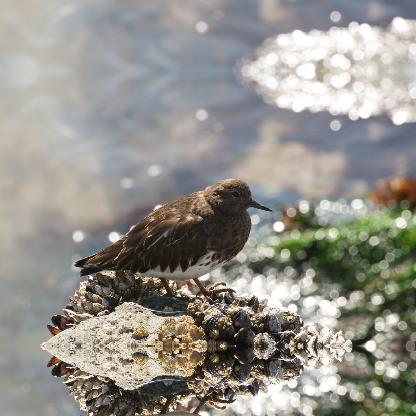Bird: (73, 177, 274, 303), (72, 388, 274, 415)
